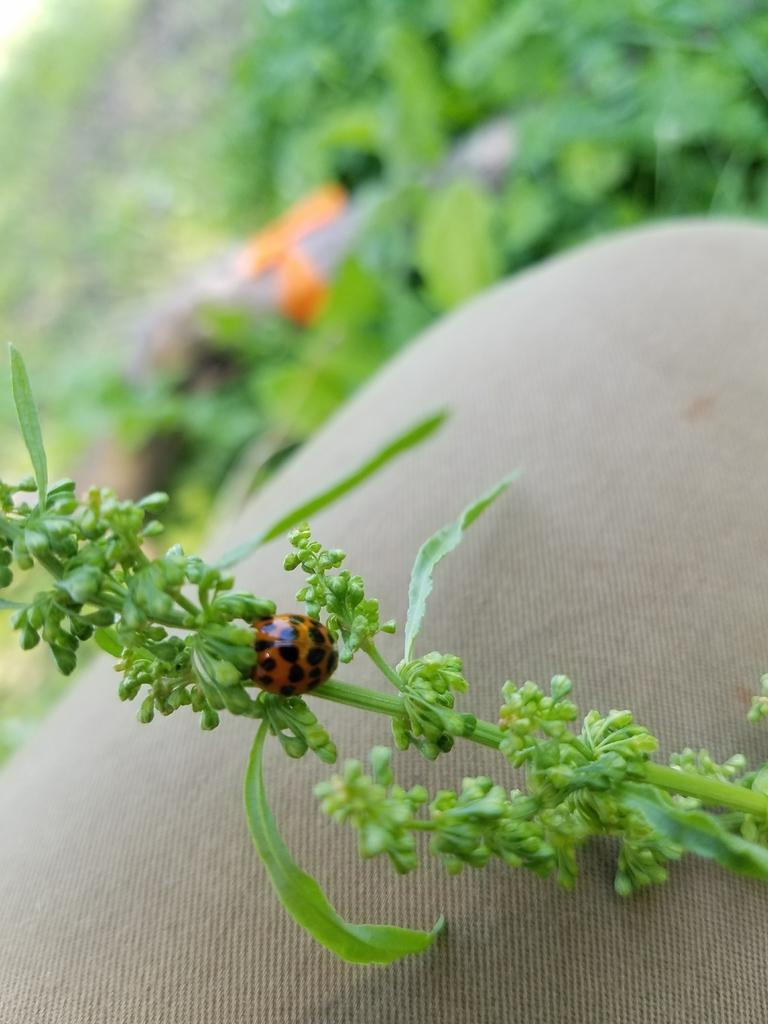ladybug: (247, 611, 341, 699)
